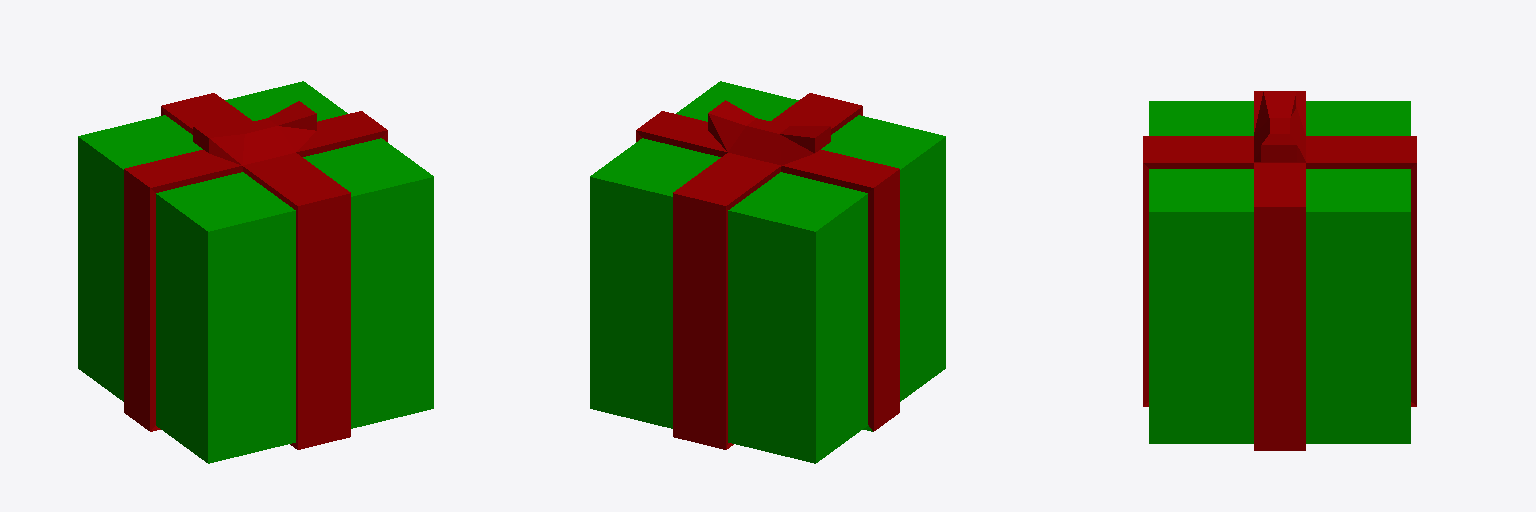
The model's file is PresentGreen.obj.
3 views of the same model, side by side, from view 1: azimuth 30°, elevation 25°; view 2: azimuth 150°, elevation 25°; view 3: azimuth 270°, elevation 25° (orthographic).
Visible parts, largest first — view 1: Cube.002_Cube.004; view 2: Cube.002_Cube.004; view 3: Cube.002_Cube.004.
Boxes of the visible parts, box(x1,y1,x2,y2) form: Cube.002_Cube.004: box(78, 81, 433, 463); Cube.002_Cube.004: box(590, 81, 945, 463); Cube.002_Cube.004: box(1143, 91, 1416, 450).
Bounding box in the file's own units: 1.24 × 1.38 × 1.24.